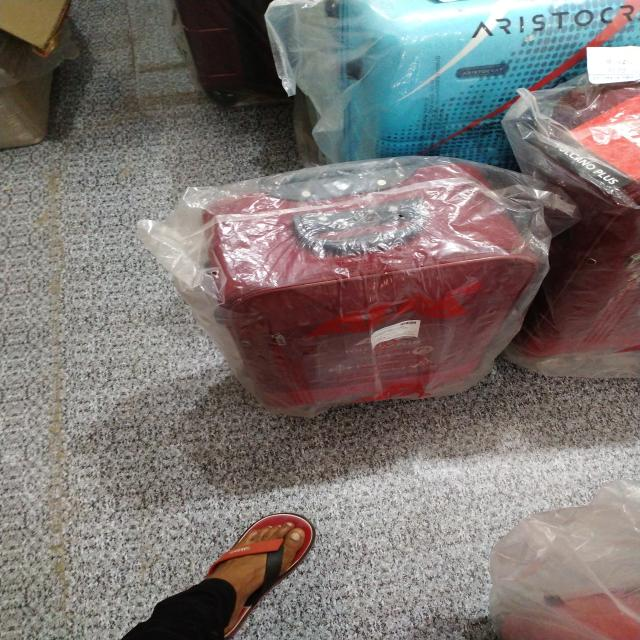suitcaserotation: (190, 160, 548, 418), (320, 0, 640, 170)
